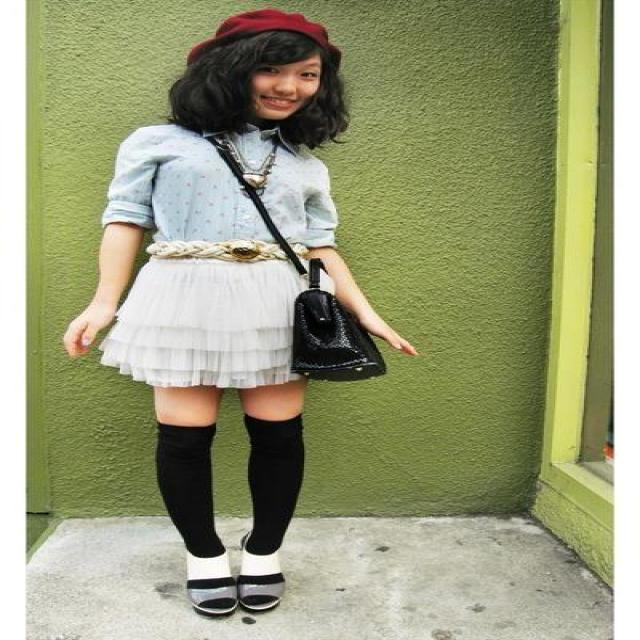bag: (194, 131, 386, 381)
dress: (99, 125, 338, 387)
hat: (226, 9, 326, 42)
shoe: (162, 550, 286, 620)
